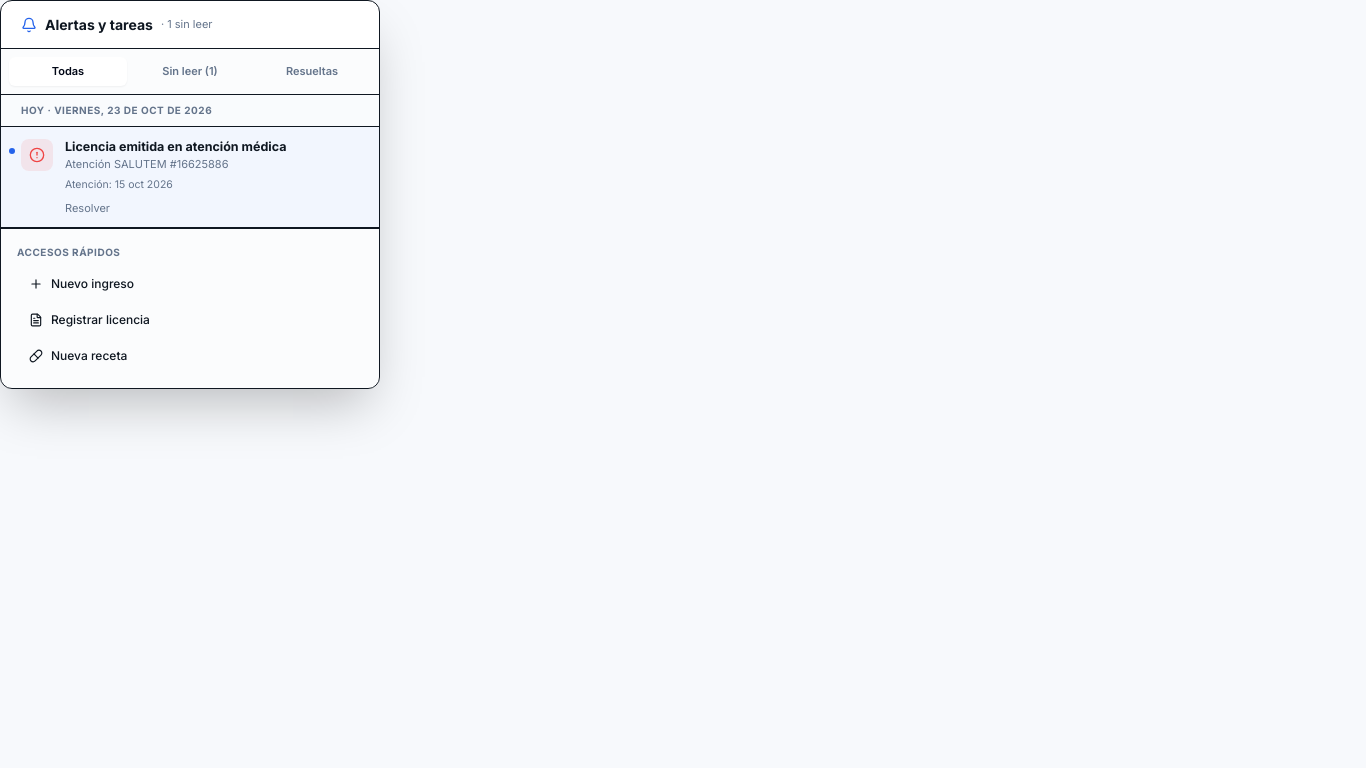
Test: AlertsPanel: gestionar la alerta desde el diálogo › si la licencia ya está registrada lo dice y no ofrece registrarla
Click the text "Licencia emitida en atención médica".
click(176, 146)  # box x1=65 y1=138 x2=286 y2=154
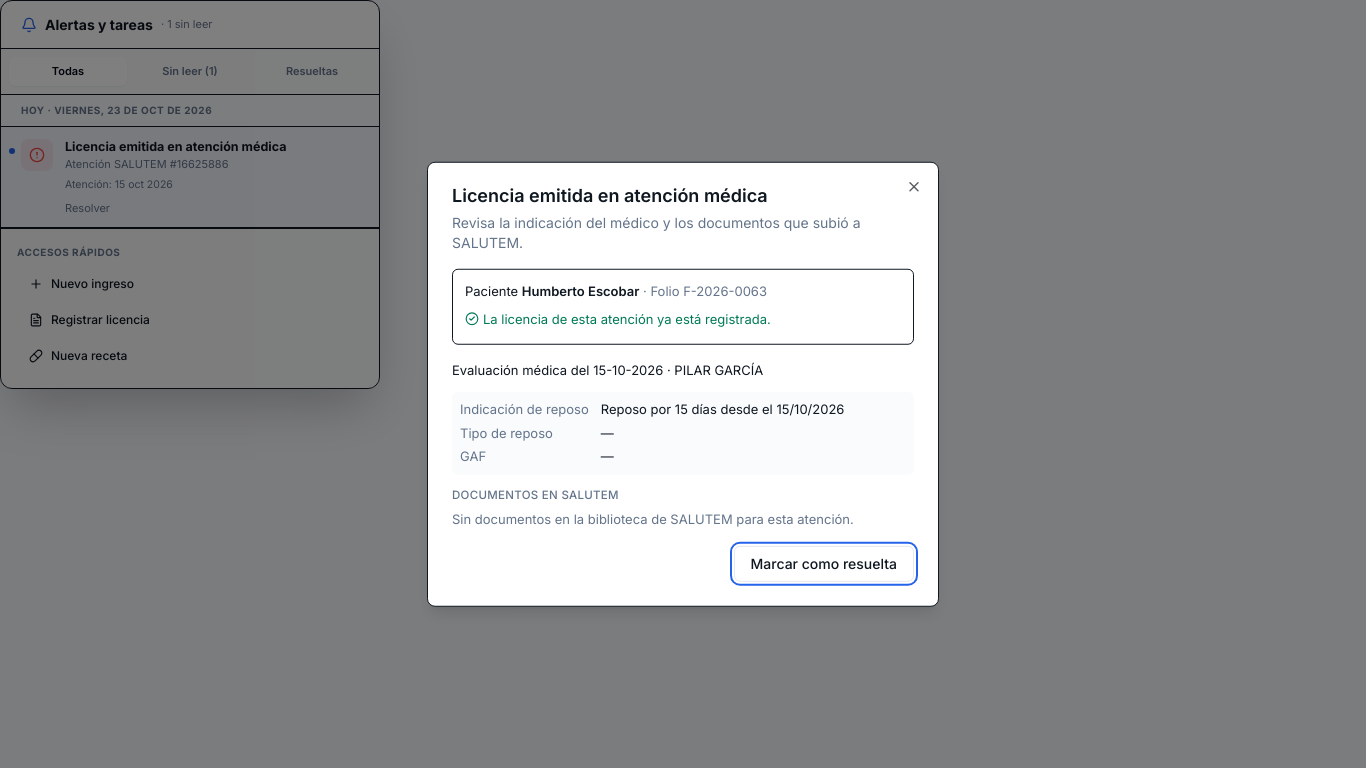
Check: the text "La licencia de esta atención ya está registrada." is shown, box x1=465 y1=309 x2=771 y2=329
